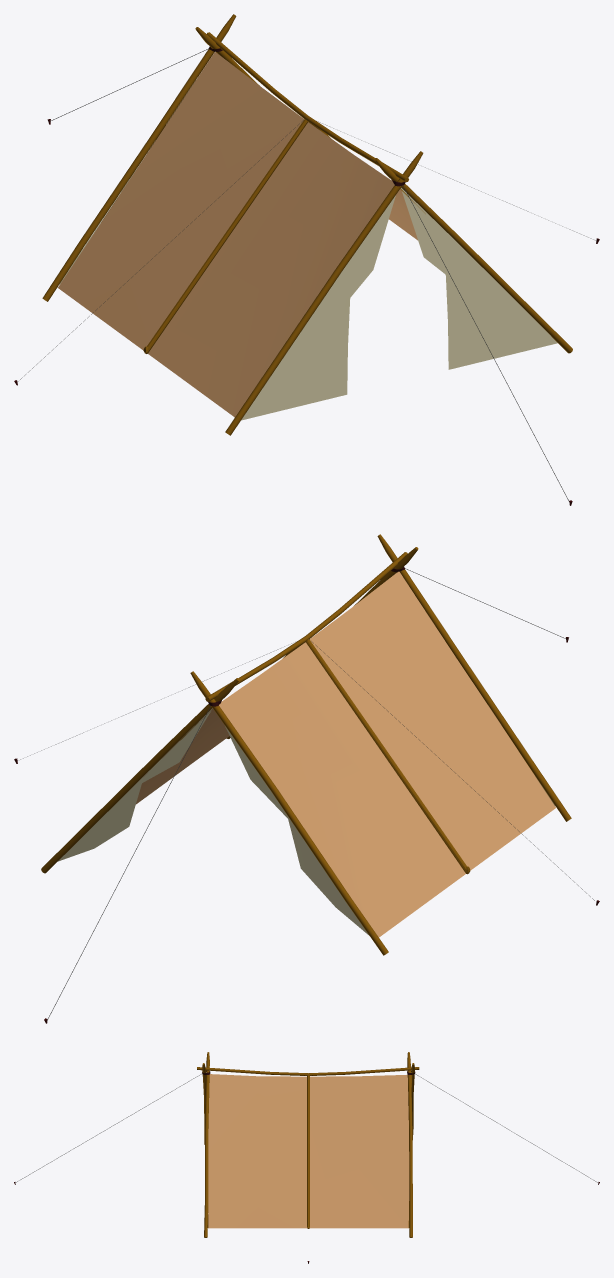
File: Tent.FBX
The picture shows the model from 3 angles, top to bottom: view 1: azimuth 30°, elevation 25°; view 2: azimuth 150°, elevation 25°; view 3: azimuth 270°, elevation 25°; orthographic projection. The views are drawn at different scales.
Visible parts, largest first — view 1: Tent; view 2: Tent; view 3: Tent.
Part boxes in pixels (x1,y1,x2,y2): Tent: [14, 14, 599, 505]; Tent: [14, 534, 599, 1023]; Tent: [14, 1052, 599, 1263].
Size of the model in its own units: 201 by 78.66 by 311.
